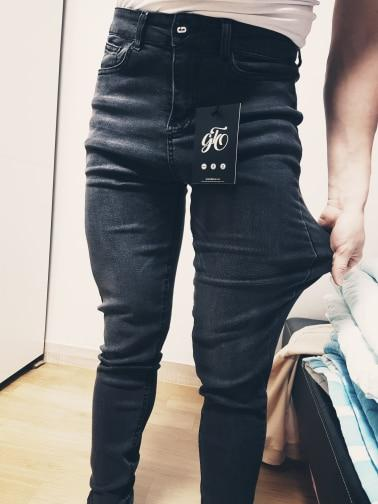jeans: (78, 9, 305, 504)
